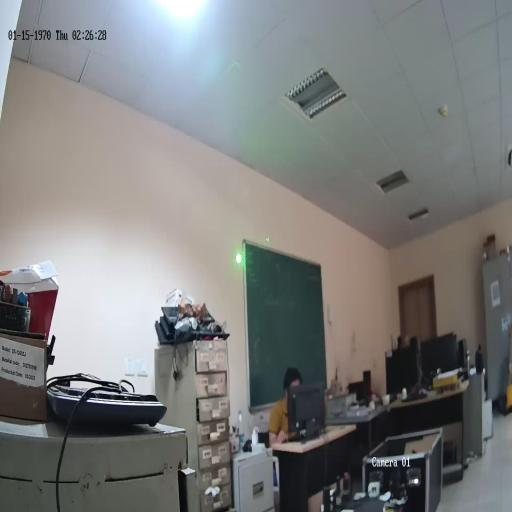laser: (234, 252, 242, 266)
